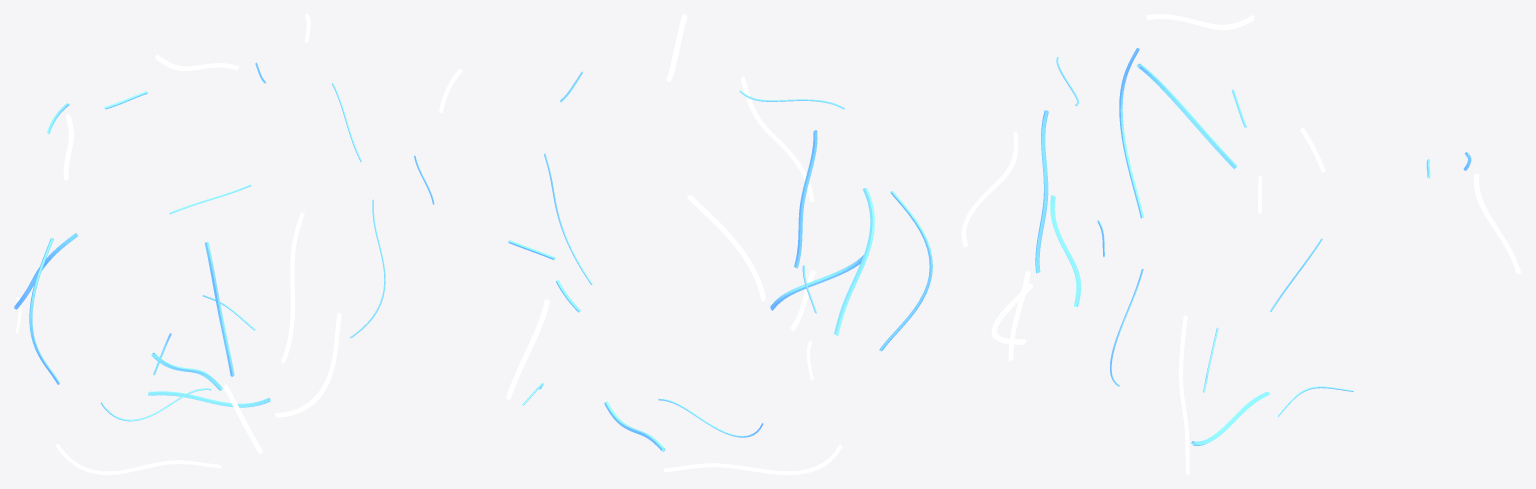
The model's file is warp_bubble_arcs.glb.
3 views of the same model, side by side, from view 1: azimuth 30°, elevation 25°; view 2: azimuth 150°, elevation 25°; view 3: azimuth 270°, elevation 25° (orthographic). The views are drawn at different scales.
Visible parts, largest first — view 1: warp_bubble_arcs; view 2: warp_bubble_arcs; view 3: warp_bubble_arcs.
Part boxes in pixels (left/top/right/bottom): warp_bubble_arcs: left=14, top=14, right=385, bottom=474; warp_bubble_arcs: left=414, top=14, right=932, bottom=474; warp_bubble_arcs: left=961, top=14, right=1521, bottom=474.
Size of the model in its own units: 4.33 by 4.29 by 4.75.
